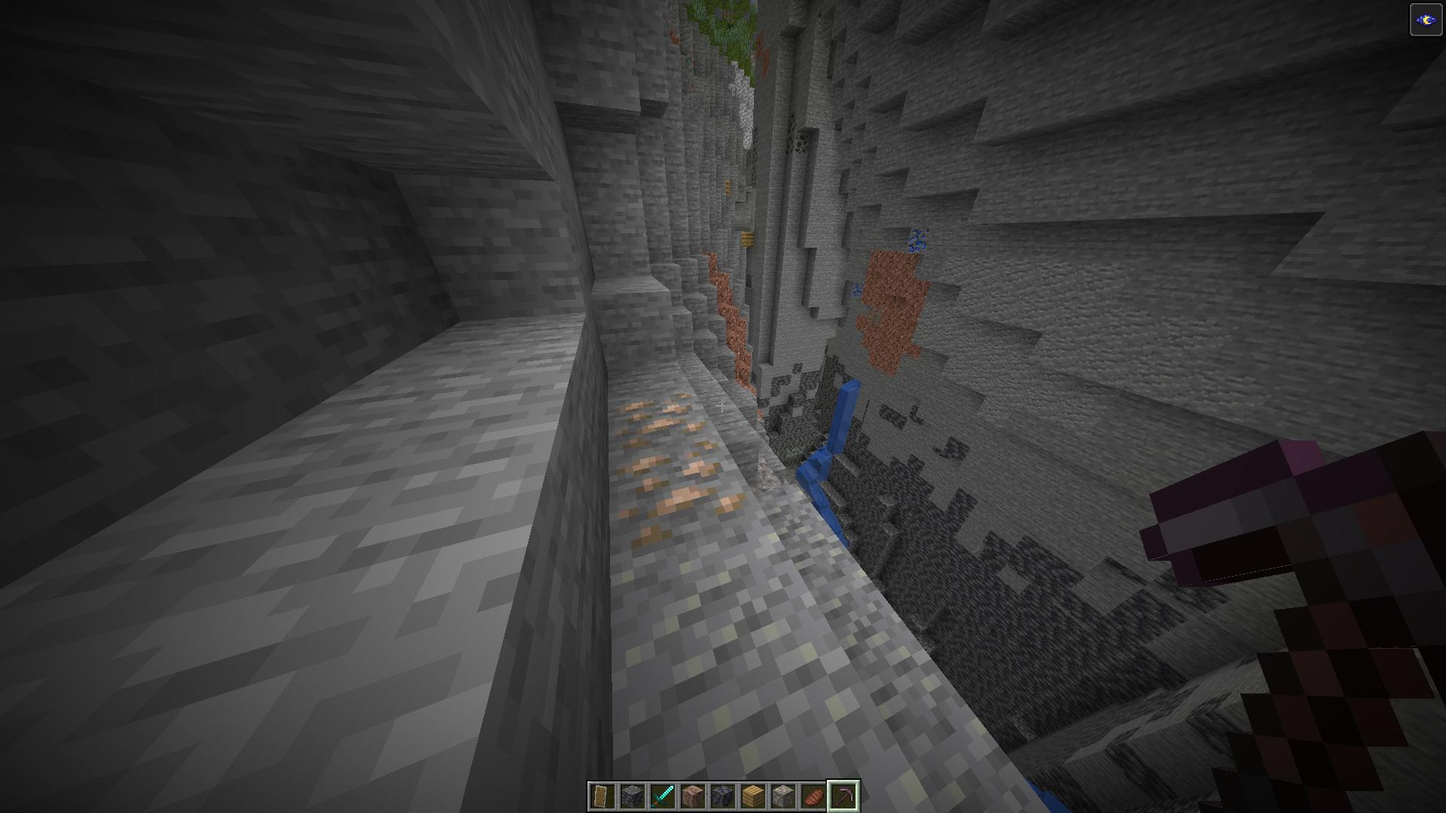iron ore: (611, 442, 736, 556), (605, 390, 710, 447)
